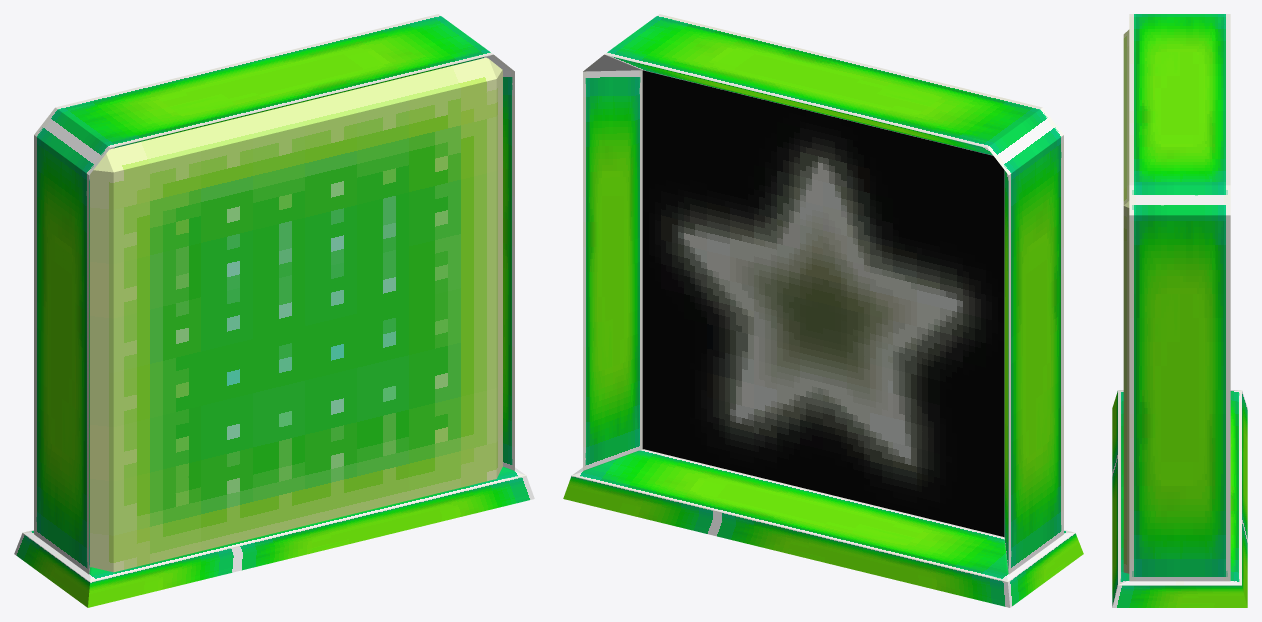
Rendered from greenblockpinball.obj.
3 views of the same model, side by side, from view 1: azimuth 30°, elevation 25°; view 2: azimuth 150°, elevation 25°; view 3: azimuth 270°, elevation 25° (orthographic). The views are drawn at different scales.
Parts seen in each view (by area): view 1: Object_1, obj2; view 2: obj1, obj2; view 3: obj2, Object_1.
Part boxes in pixels (bbox=[...]): Object_1: bbox=[90, 57, 502, 572]; obj2: bbox=[14, 14, 534, 607]; obj1: bbox=[642, 70, 1004, 536]; obj2: bbox=[563, 14, 1083, 607]; obj2: bbox=[1112, 14, 1247, 607]; Object_1: bbox=[1123, 29, 1129, 573].
Bounding box in the file's own units: 21 × 20 × 6.
